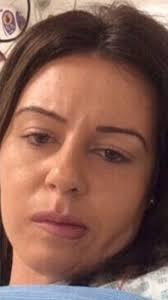strokeMouthWeak: (24, 208, 93, 244)
